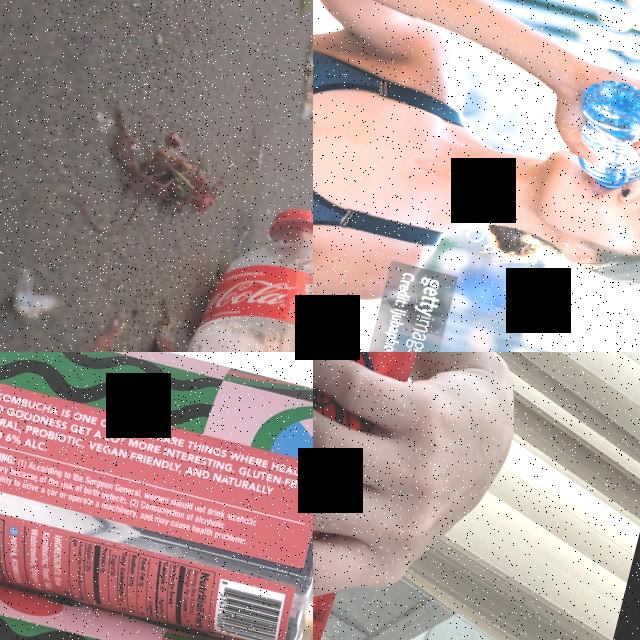bottle: (555, 69, 640, 199)
can: (0, 352, 313, 640), (313, 352, 433, 640), (0, 547, 313, 640)
